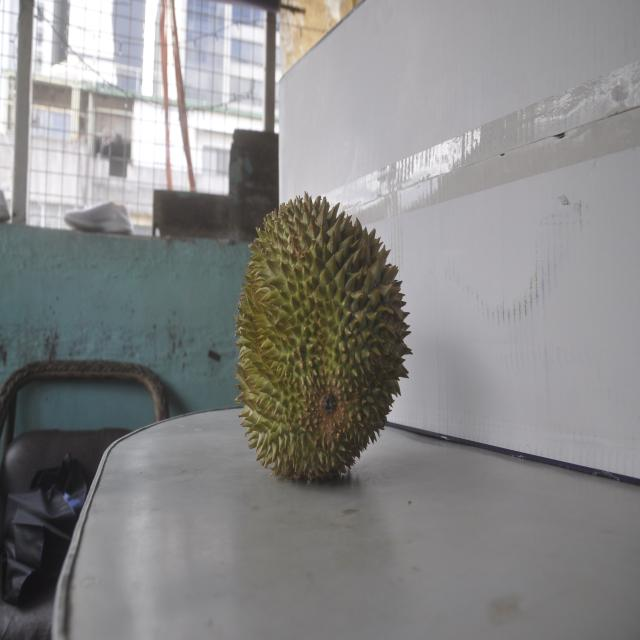mature: (236, 191, 407, 480)
